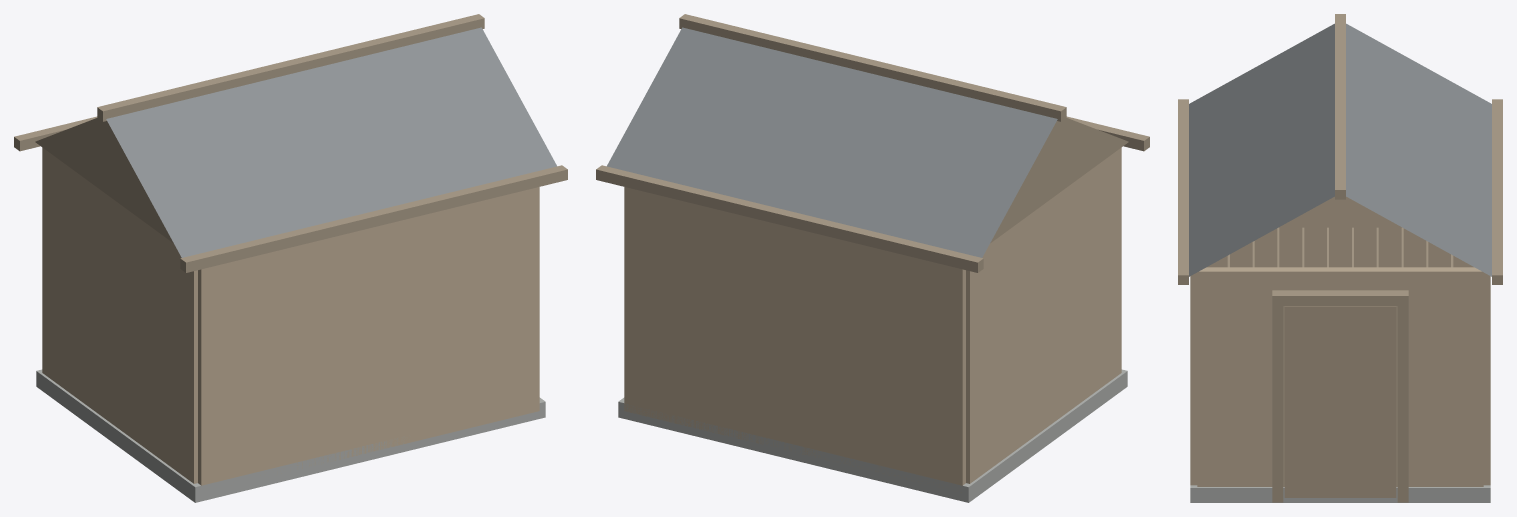
File: shed.glb
The picture shows the model from 3 angles, left to right: view 1: azimuth 30°, elevation 25°; view 2: azimuth 150°, elevation 25°; view 3: azimuth 270°, elevation 25°; orthographic projection. The views are drawn at different scales.
Parts seen in each view (by area): view 1: part_003, part_013, part_004, part_001, part_015, part_016, part_010, part_014; view 2: part_002, part_012, part_004, part_001, part_014, part_016, part_010, part_015; view 3: part_005, part_012, part_013, part_006, part_004, part_001, part_007, part_008, part_009, part_014, part_015, part_016 (+2 smaller).
Boxes of the visible parts, x1,y1,x2,y2 form: part_003: (198, 187, 539, 485); part_013: (106, 27, 556, 257); part_004: (42, 147, 197, 483); part_001: (36, 369, 545, 502); part_015: (180, 165, 567, 272); part_016: (97, 14, 484, 121); part_010: (35, 118, 173, 243); part_014: (14, 116, 97, 151); part_002: (624, 187, 965, 492); part_012: (607, 27, 1057, 257); part_004: (966, 147, 1121, 483); part_001: (618, 369, 1127, 502); part_014: (596, 165, 983, 272); part_016: (679, 14, 1066, 121); part_010: (990, 118, 1128, 243); part_015: (1066, 116, 1149, 151); part_005: (1197, 267, 1483, 486); part_012: (1346, 23, 1491, 276); part_013: (1189, 23, 1334, 276); part_006: (1284, 306, 1396, 497); part_004: (1207, 196, 1473, 267); part_001: (1190, 485, 1490, 502); part_007: (1397, 302, 1408, 502); part_008: (1272, 302, 1283, 502); part_009: (1272, 290, 1408, 305); part_014: (1492, 99, 1502, 284); part_015: (1178, 99, 1188, 284); part_016: (1335, 14, 1345, 199).
Bounding box in the file's own units: 3.05 × 2.59 × 2.38.
